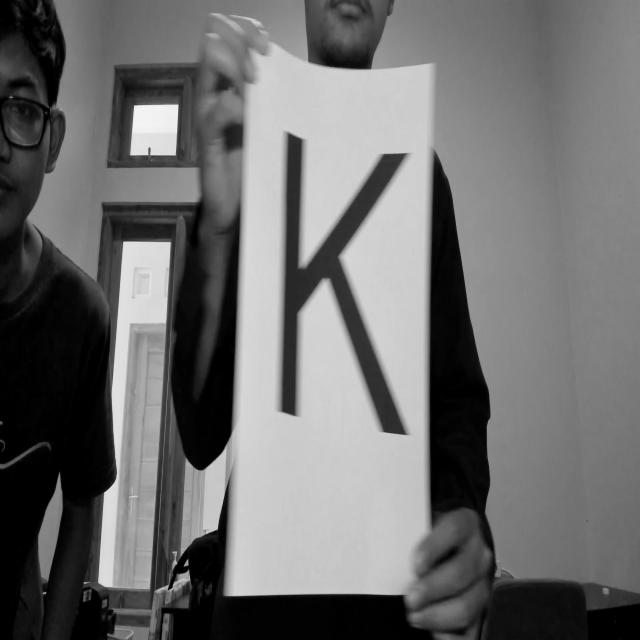k: (259, 120, 436, 496)
